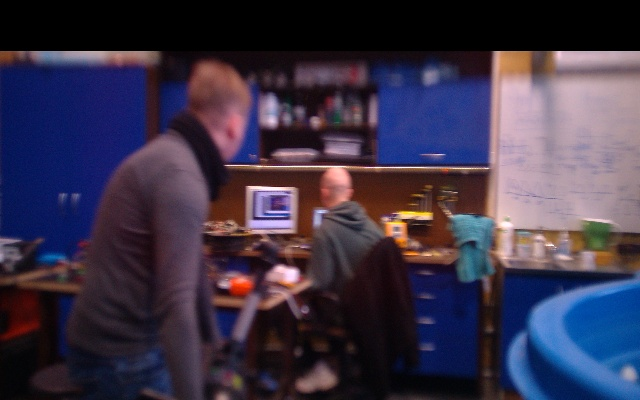black: (227, 288, 268, 349)
